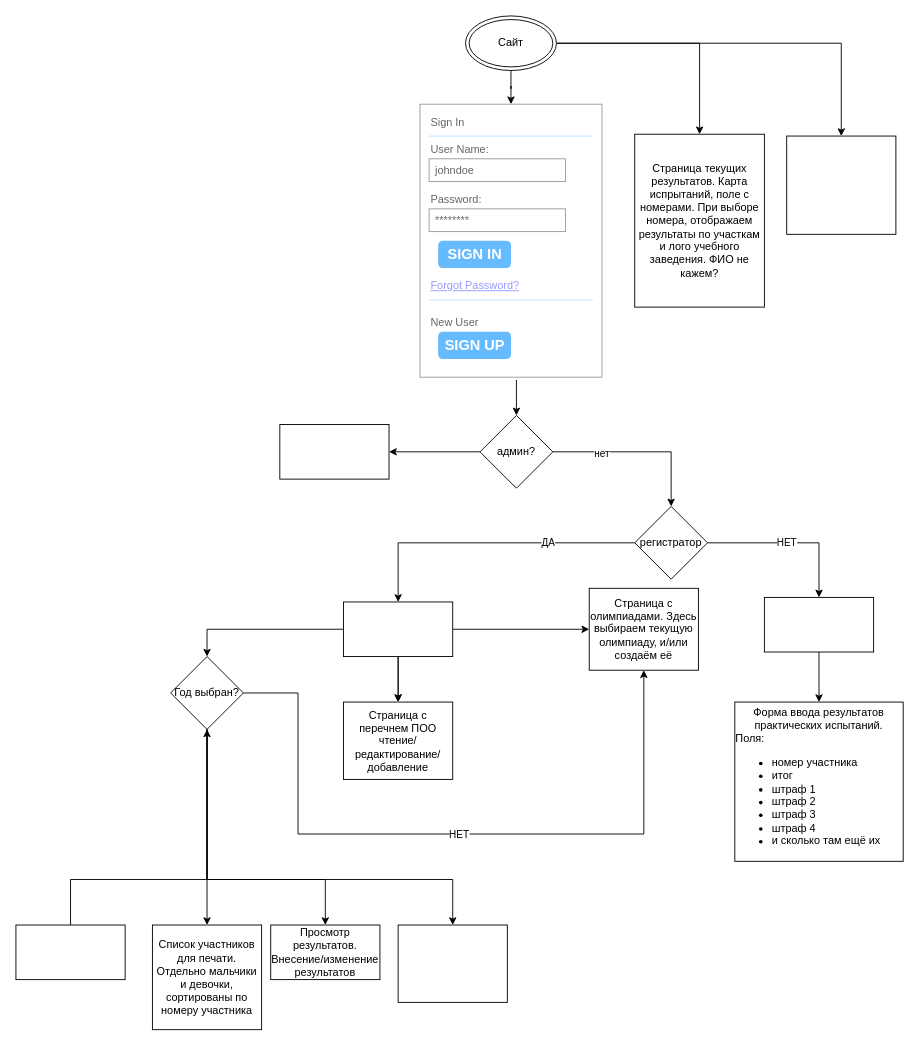
Some shapes in this 919 by 1046 pixel diagram are drawn without their labels. The shapes that lost their labels are listed below. From the top down, each one's centre as x and y in pixels, then its label:
[841,184]: Страница текущих результатов.Тупо список мальчиков и/или девочек
[398,629]: Страница с общей инфой, инструкциями и кнопками навигации
[818,624]: ИНТРО с общей инфой и капой для перехода
[70,952]: Регистрация /изменение участников
[452,963]: Итоговые протоколы
